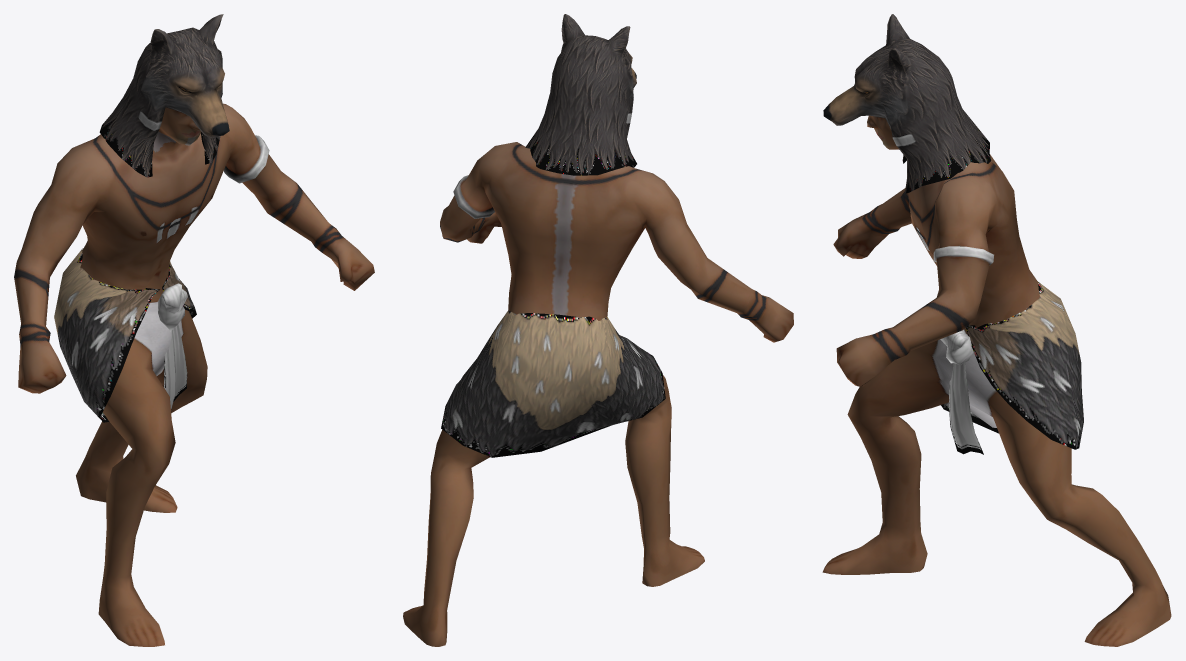
File: body-base.glb
The picture shows the model from 3 angles, left to right: view 1: azimuth 30°, elevation 25°; view 2: azimuth 150°, elevation 25°; view 3: azimuth 270°, elevation 25°; orthographic projection. The views are drawn at different scales.
Bounding box in the file's own units: 1.19 × 1.9 × 1.05.
2 materials, 2 textured.
